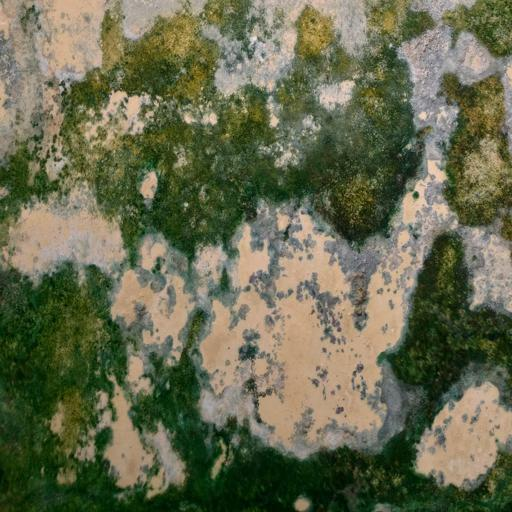algae: (14, 18, 511, 512)
